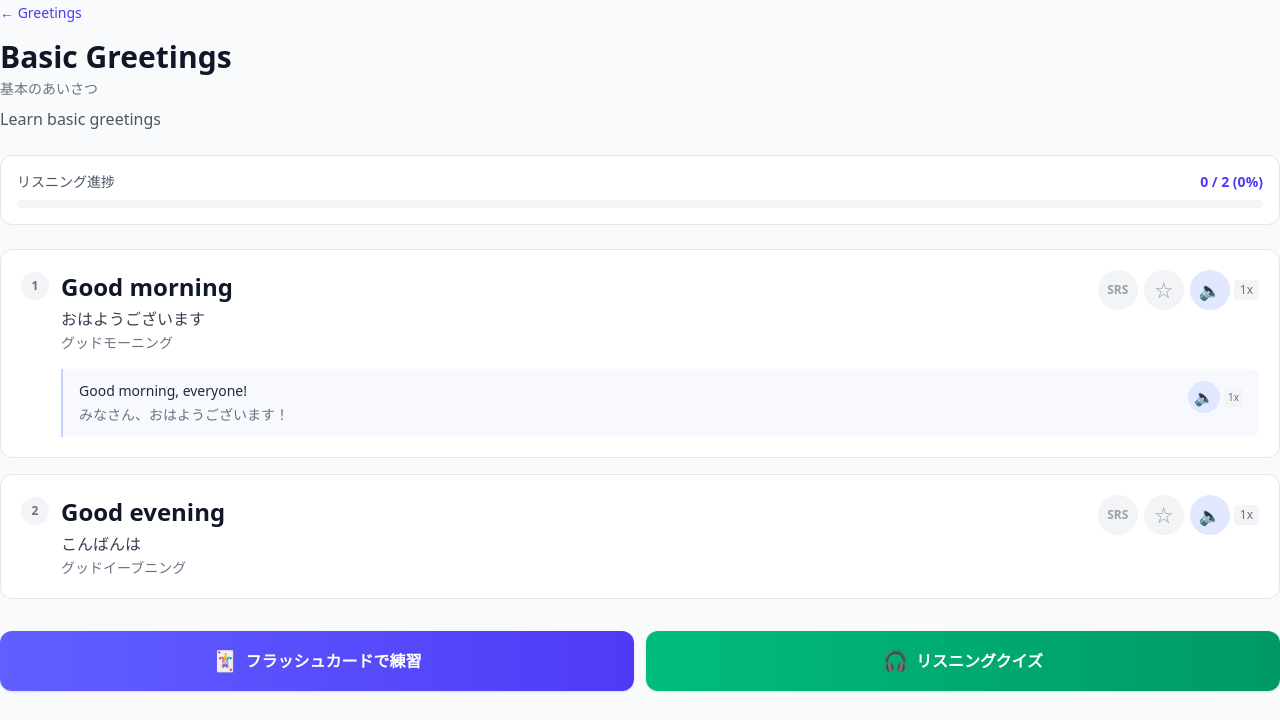
Test: LessonPage › marks an item listened and updates progress when audio play button is clicked
Expected: the text "リスニング済み" is not shown
// Click the first play button (for "Good morning")
Click the button named "音声を再生": x=1210, y=290 [1190, 270, 1230, 310]
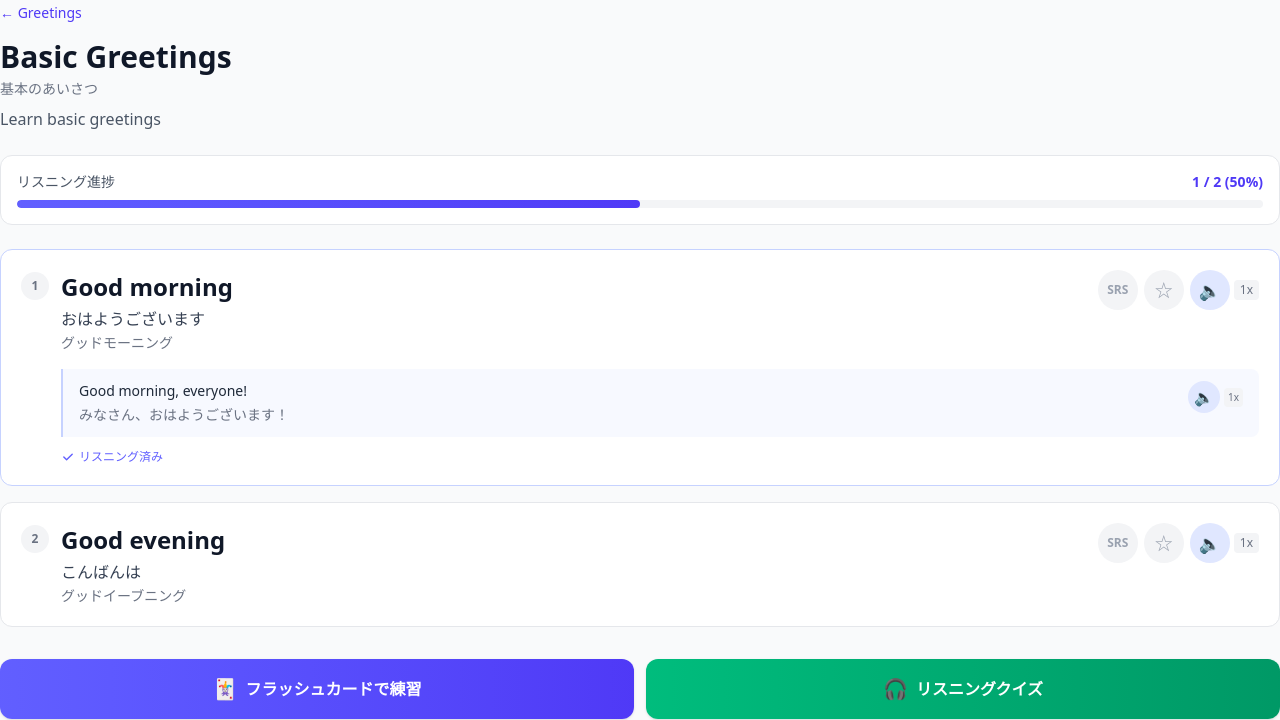
Expected: the text "1 / 2 (50%)" is shown, [1192, 172, 1263, 192]
Expected: the text "リスニング済み" is shown, [61, 448, 163, 465]
